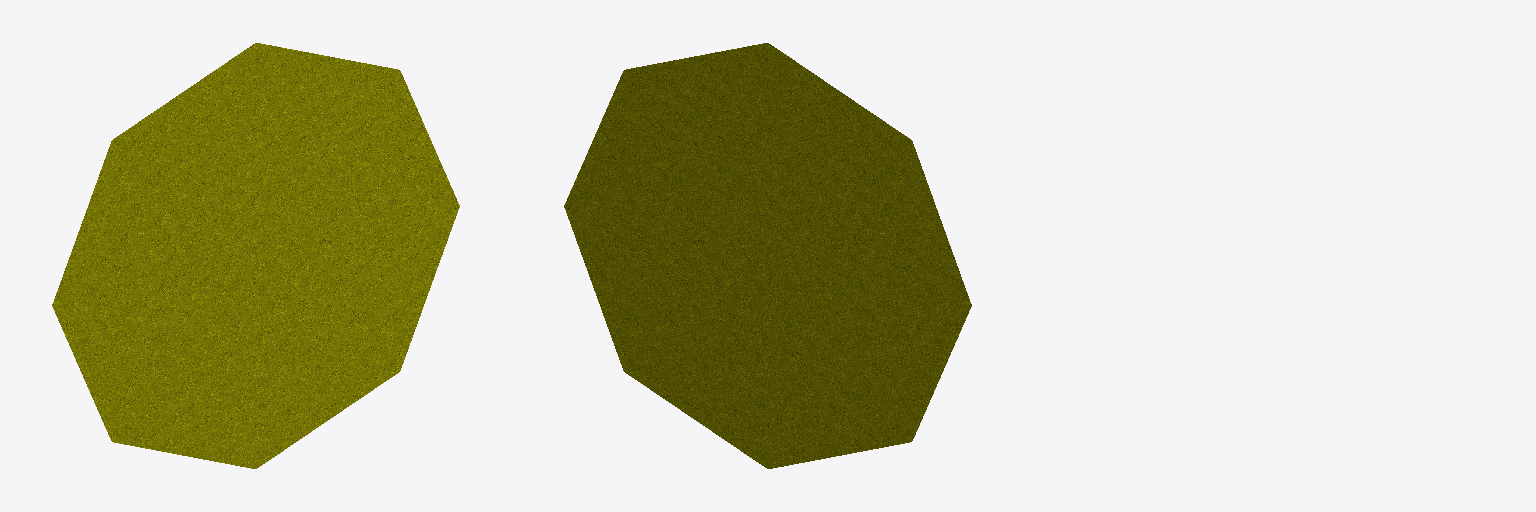
3 views of the same model, side by side, from view 1: azimuth 30°, elevation 25°; view 2: azimuth 150°, elevation 25°; view 3: azimuth 270°, elevation 25° (orthographic).
Visible parts, largest first — view 1: Circle.001; view 2: Circle.001; view 3: none.
Part boxes in pixels (x1,y1,x2,y2): Circle.001: (52,43,459,468); Circle.001: (564,43,971,468).
Bounding box in the file's own units: 691 × 691 × 0.
1 materials, 1 textured.